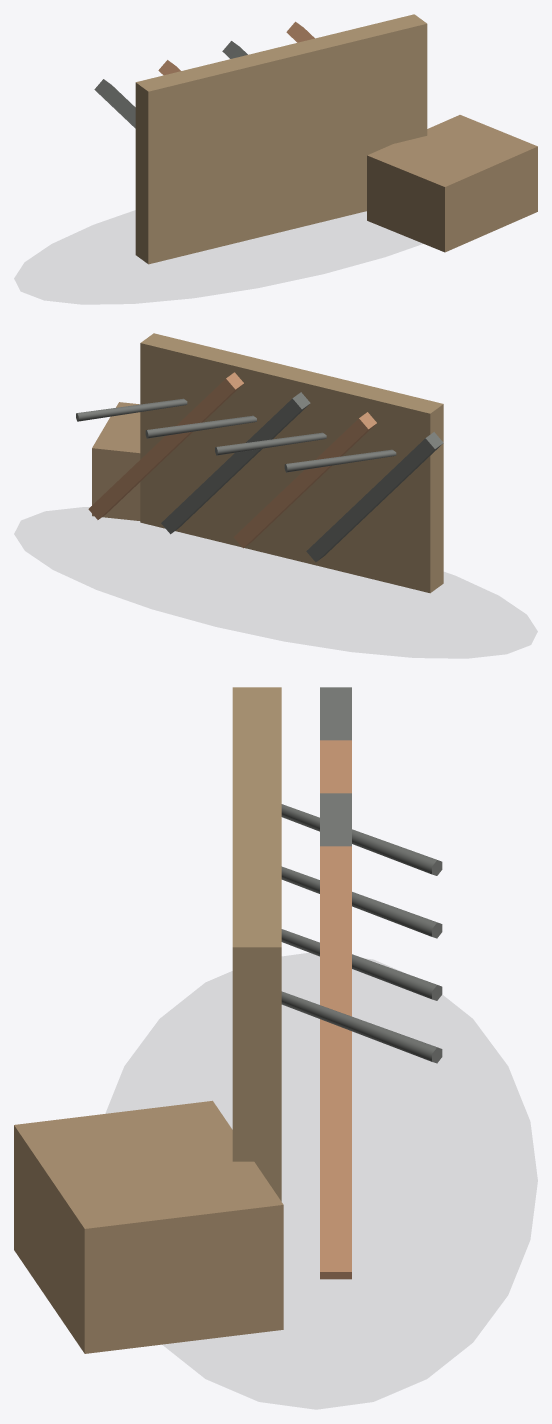
File: armory_rack.glb
3 views of the same model, one above another, from view 1: azimuth 30°, elevation 25°; view 2: azimuth 150°, elevation 25°; view 3: azimuth 270°, elevation 25° (orthographic). The views are drawn at different scales.
Visible parts, largest first — view 1: rack_back, ammo_crate, stored_gun_0; view 2: rack_back, ammo_crate, stored_gun_3, stored_gun_2, stored_gun_0, stored_gun_1, gun_barrel_0, gun_barrel_2, gun_barrel_1, gun_barrel_3; view 3: ammo_crate, rack_back, stored_gun_3, gun_barrel_3, gun_barrel_1, gun_barrel_2, gun_barrel_0, stored_gun_0, stored_gun_1, stored_gun_2.
Boxes of the visible parts, left/top/right/bottom form: rack_back: left=135, top=14, right=427, bottom=264; ammo_crate: left=367, top=115, right=537, bottom=252; stored_gun_0: left=94, top=79, right=135, bottom=128; rack_back: left=140, top=333, right=443, bottom=593; ammo_crate: left=92, top=402, right=140, bottom=520; stored_gun_3: left=88, top=372, right=243, bottom=519; stored_gun_2: left=161, top=392, right=310, bottom=534; stored_gun_0: left=306, top=432, right=443, bottom=562; stored_gun_1: left=233, top=412, right=376, bottom=548; gun_barrel_0: left=284, top=449, right=396, bottom=472; gun_barrel_2: left=145, top=415, right=256, bottom=438; gun_barrel_1: left=215, top=432, right=326, bottom=455; gun_barrel_3: left=76, top=398, right=187, bottom=421; ammo_crate: left=14, top=1100, right=283, bottom=1353; rack_back: left=232, top=687, right=281, bottom=1201; stored_gun_3: left=320, top=846, right=351, bottom=1279; gun_barrel_3: left=281, top=991, right=442, bottom=1063; gun_barrel_1: left=281, top=866, right=442, bottom=938; gun_barrel_2: left=281, top=929, right=442, bottom=1000; gun_barrel_0: left=281, top=804, right=442, bottom=875; stored_gun_0: left=320, top=687, right=351, bottom=740; stored_gun_1: left=320, top=740, right=351, bottom=793; stored_gun_2: left=320, top=793, right=351, bottom=846.
Bounding box in the file's own units: 2.2 × 0.8304 × 1.06.
